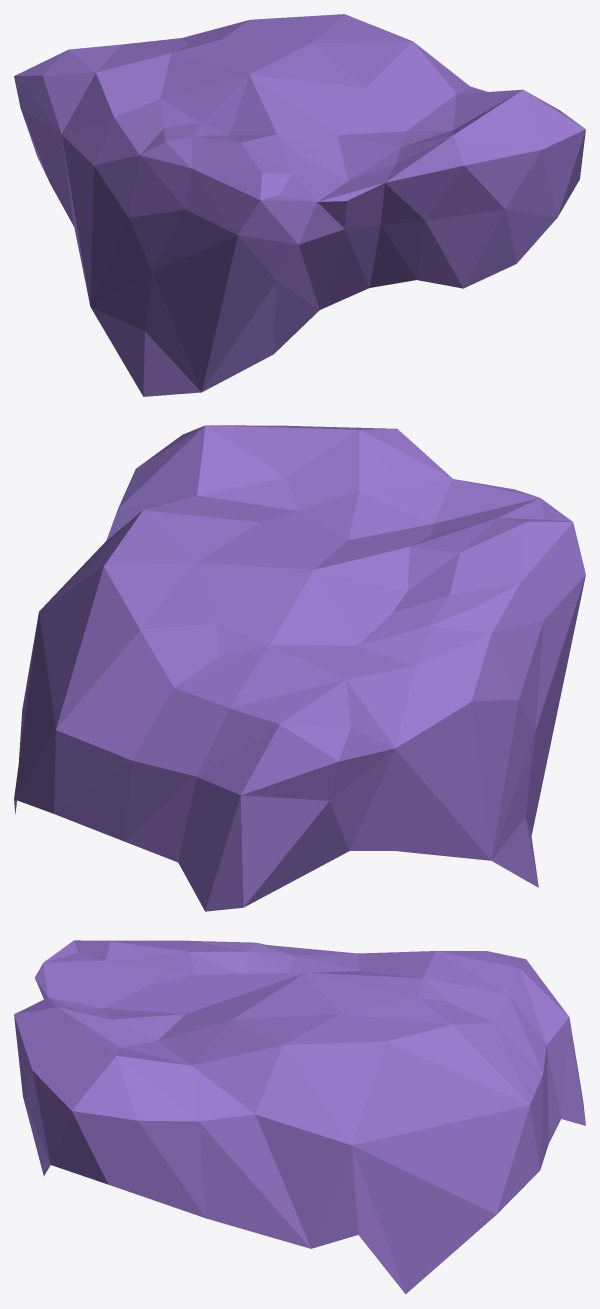
Rendered from ground_010.fbx.
3 renders of one model, top to bottom at view 1: azimuth 30°, elevation 25°; view 2: azimuth 150°, elevation 25°; view 3: azimuth 270°, elevation 25°, orthographic. The views are drawn at different scales.
Visible parts, largest first — view 1: ground.010; view 2: ground.010; view 3: ground.010.
Part boxes in pixels (box(x1,y1,x2,y2)): ground.010: box(14, 14, 585, 396); ground.010: box(14, 425, 585, 911); ground.010: box(14, 940, 585, 1294).
Bounding box in the file's own units: 1958 × 1280 × 2438.
Materials: 1 (1 with a texture image).
